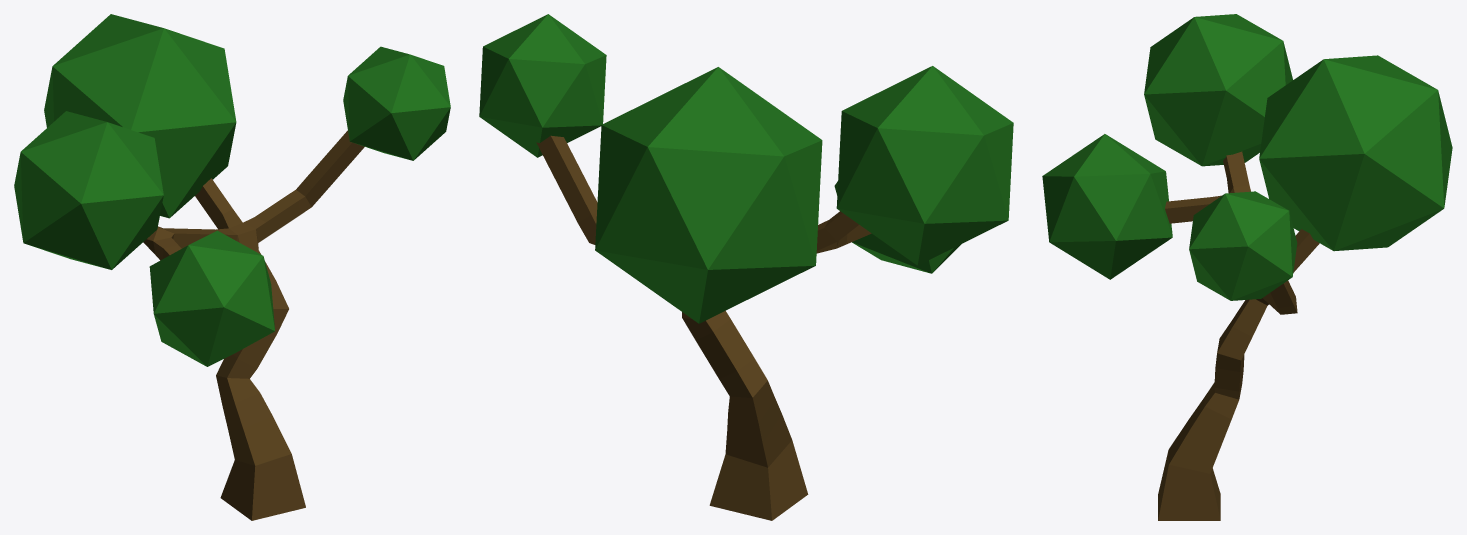
The model's file is Tree_LowPoly_1-2.fbx.
3 renders of one model, left to right at view 1: azimuth 30°, elevation 25°; view 2: azimuth 150°, elevation 25°; view 3: azimuth 270°, elevation 25°, orthographic. The views are drawn at different scales.
Parts seen in each view (by area): view 1: Tree_LowPoly_1-2; view 2: Tree_LowPoly_1-2; view 3: Tree_LowPoly_1-2.
Boxes of the visible parts, <box> form: Tree_LowPoly_1-2: <box>14,14,450,520</box>; Tree_LowPoly_1-2: <box>479,14,1013,520</box>; Tree_LowPoly_1-2: <box>1042,14,1452,520</box>.
Size of the model in its own units: 998 by 942 by 809.
